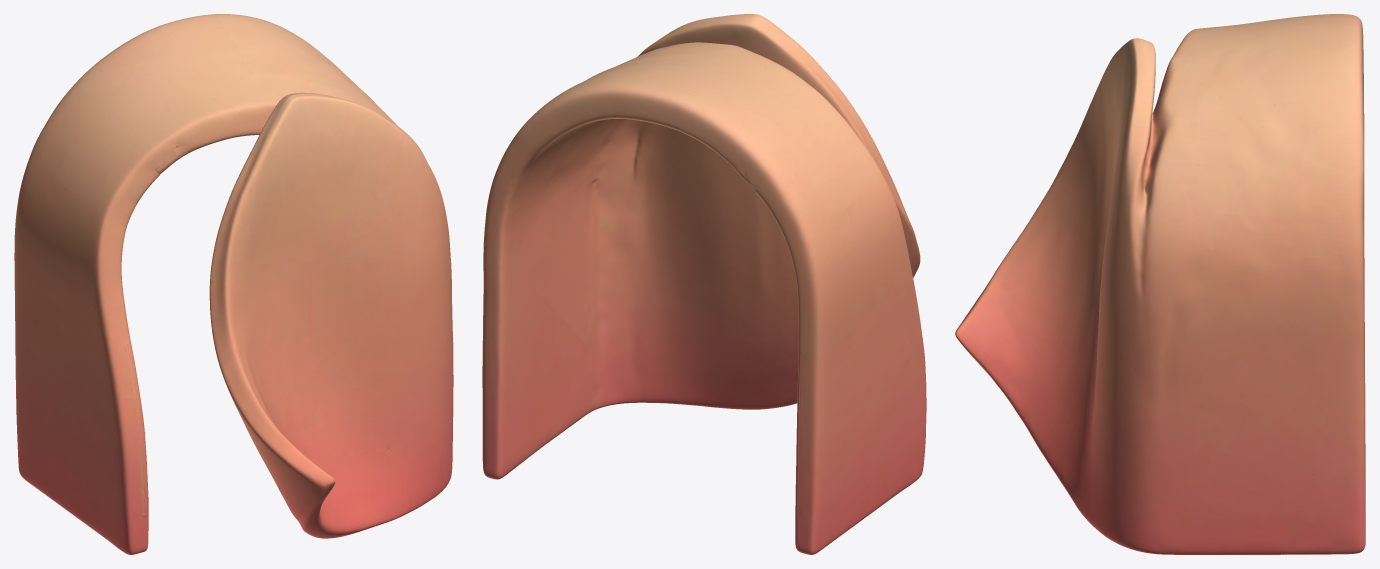
Rendered from emotion 3 aura.glb.
3 views of the same model, side by side, from view 1: azimuth 30°, elevation 25°; view 2: azimuth 150°, elevation 25°; view 3: azimuth 270°, elevation 25° (orthographic). The views are drawn at different scales.
Bounding box in the file's own units: 1.61 × 1.9 × 1.62.
1 material, 1 textured.
